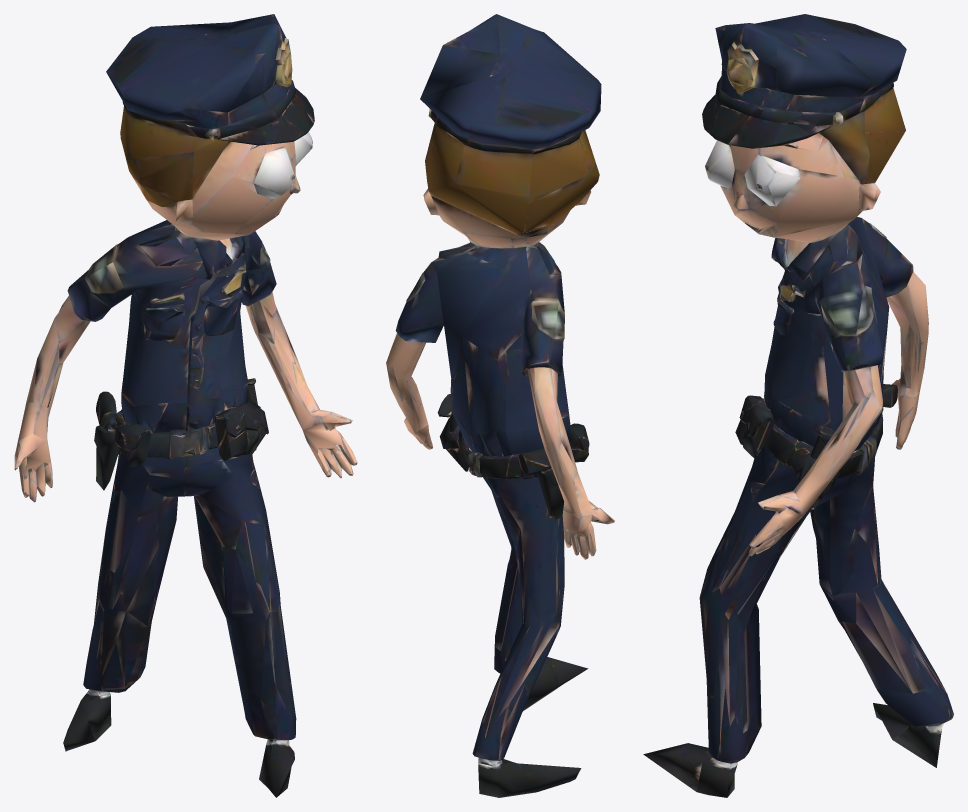
The model's file is copmorty.glb.
The picture shows the model from 3 angles, left to right: view 1: azimuth 30°, elevation 25°; view 2: azimuth 150°, elevation 25°; view 3: azimuth 270°, elevation 25°; orthographic projection. The views are drawn at different scales.
Parts seen in each view (by area): view 1: char1; view 2: char1; view 3: char1.
Boxes of the visible parts, x1=… form: char1: x1=14, y1=14, x2=357, y2=797; char1: x1=386, y1=14, x2=614, y2=797; char1: x1=643, y1=14, x2=953, y2=797.
Size of the model in its own units: 0.5525 by 1.42 by 0.5125.
1 material, 1 textured.
